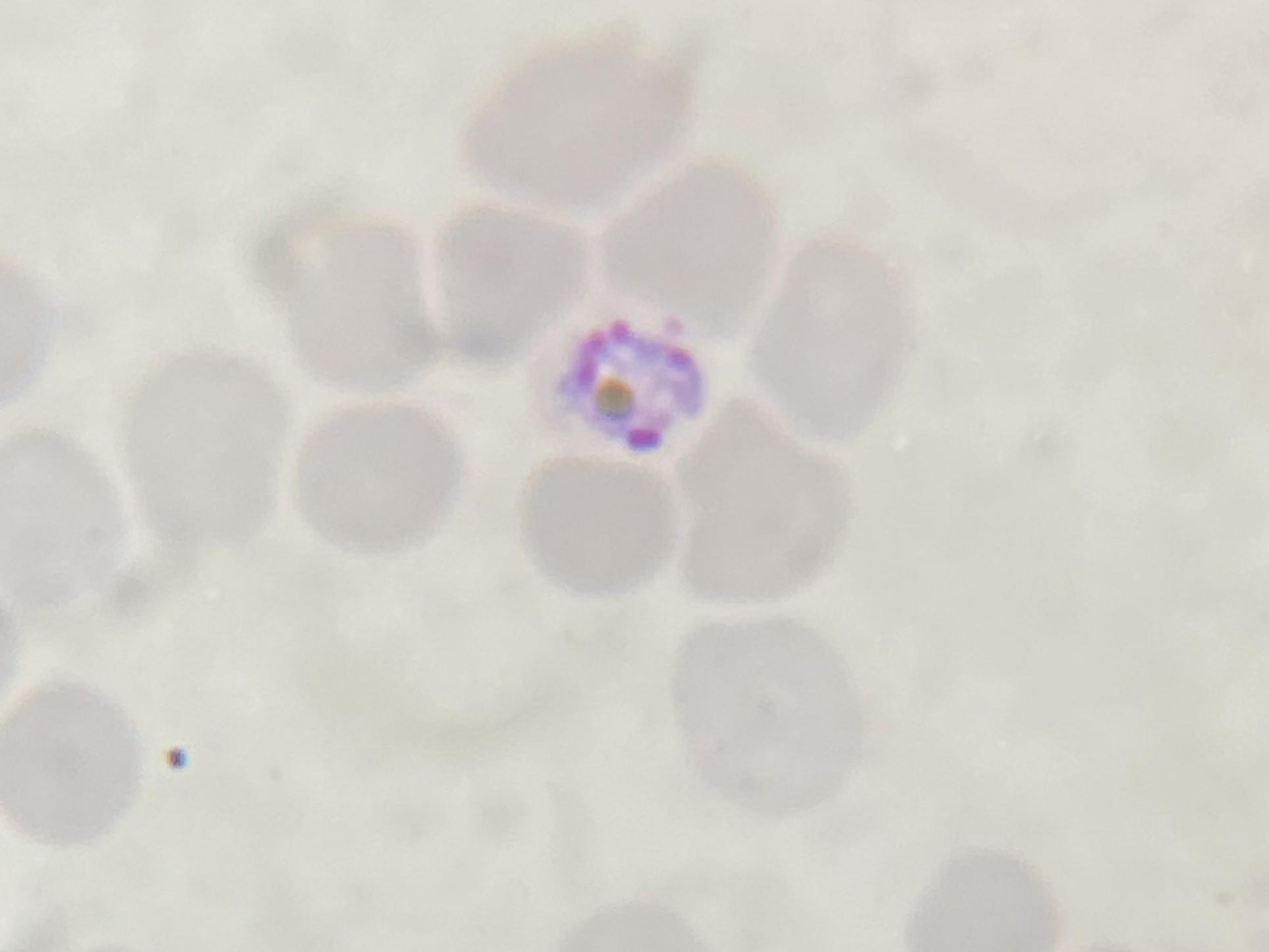Infected: (562, 490, 729, 634)
Uninfected: (566, 736, 805, 917), (408, 135, 589, 338), (404, 352, 589, 548), (362, 512, 529, 725), (832, 560, 1025, 735), (485, 620, 659, 798), (985, 396, 1140, 593), (801, 389, 973, 555), (682, 567, 840, 747), (1121, 108, 1269, 259), (595, 358, 761, 492)
